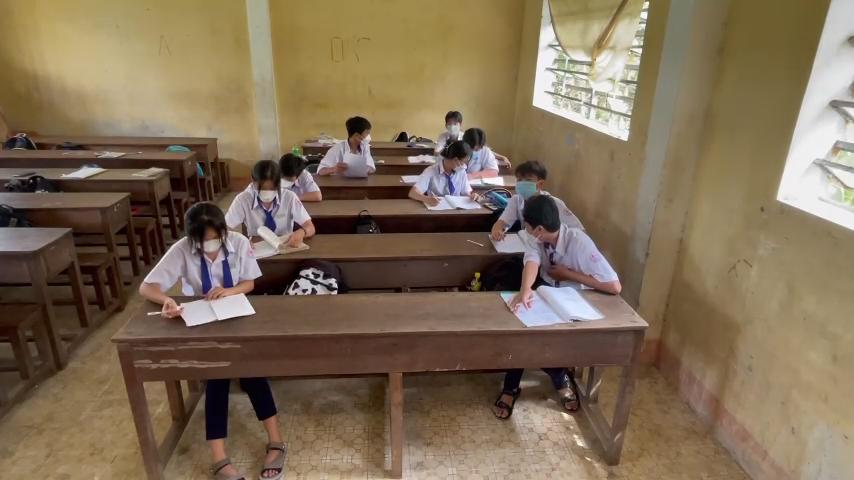Look Around: (513, 189, 571, 255), (342, 111, 380, 152), (436, 136, 473, 177)
